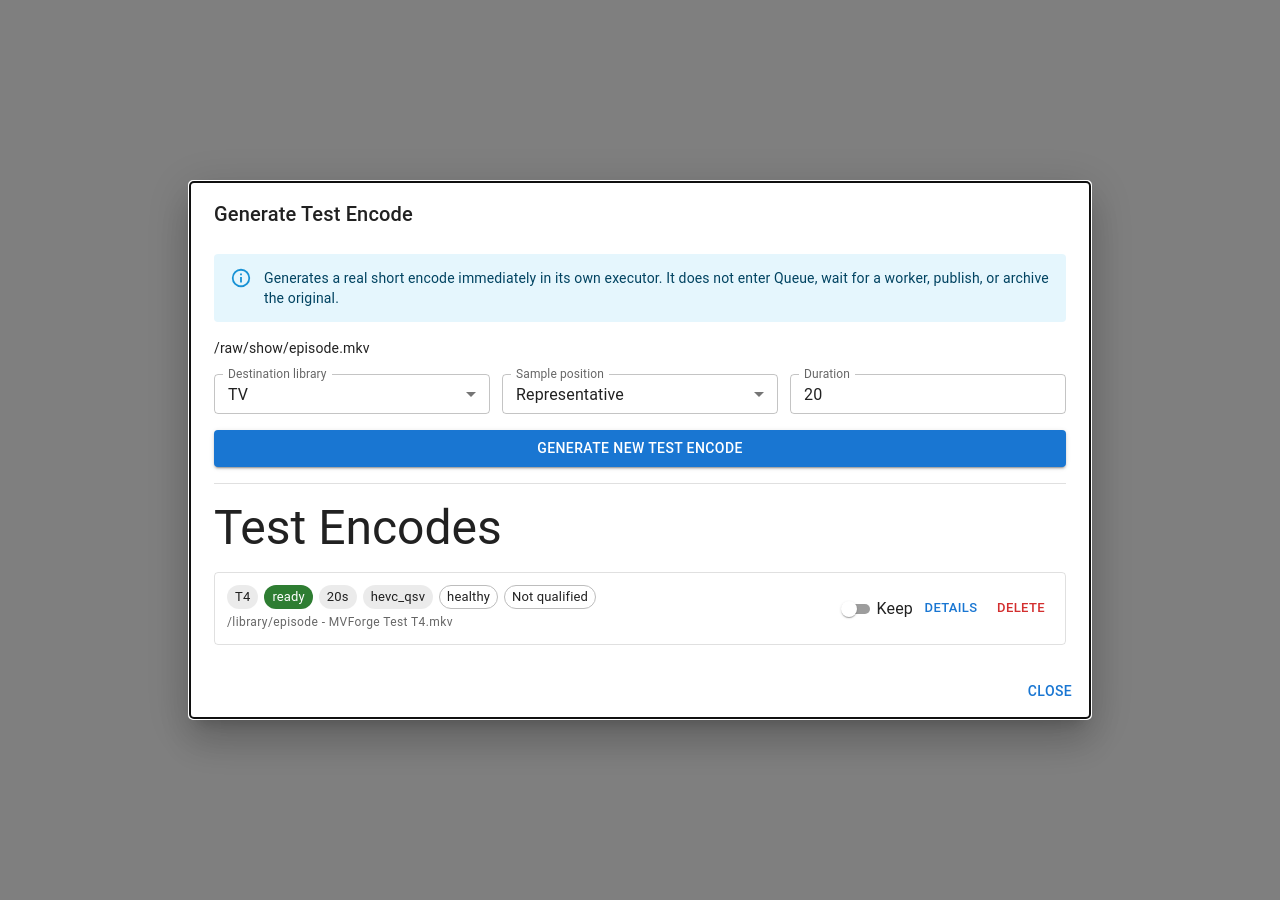
Test case: TestEncodeDialog › keeps requested and effective configurations in a dedicated section
Click the button "Details".
click(951, 609)  # box [919,593,983,624]
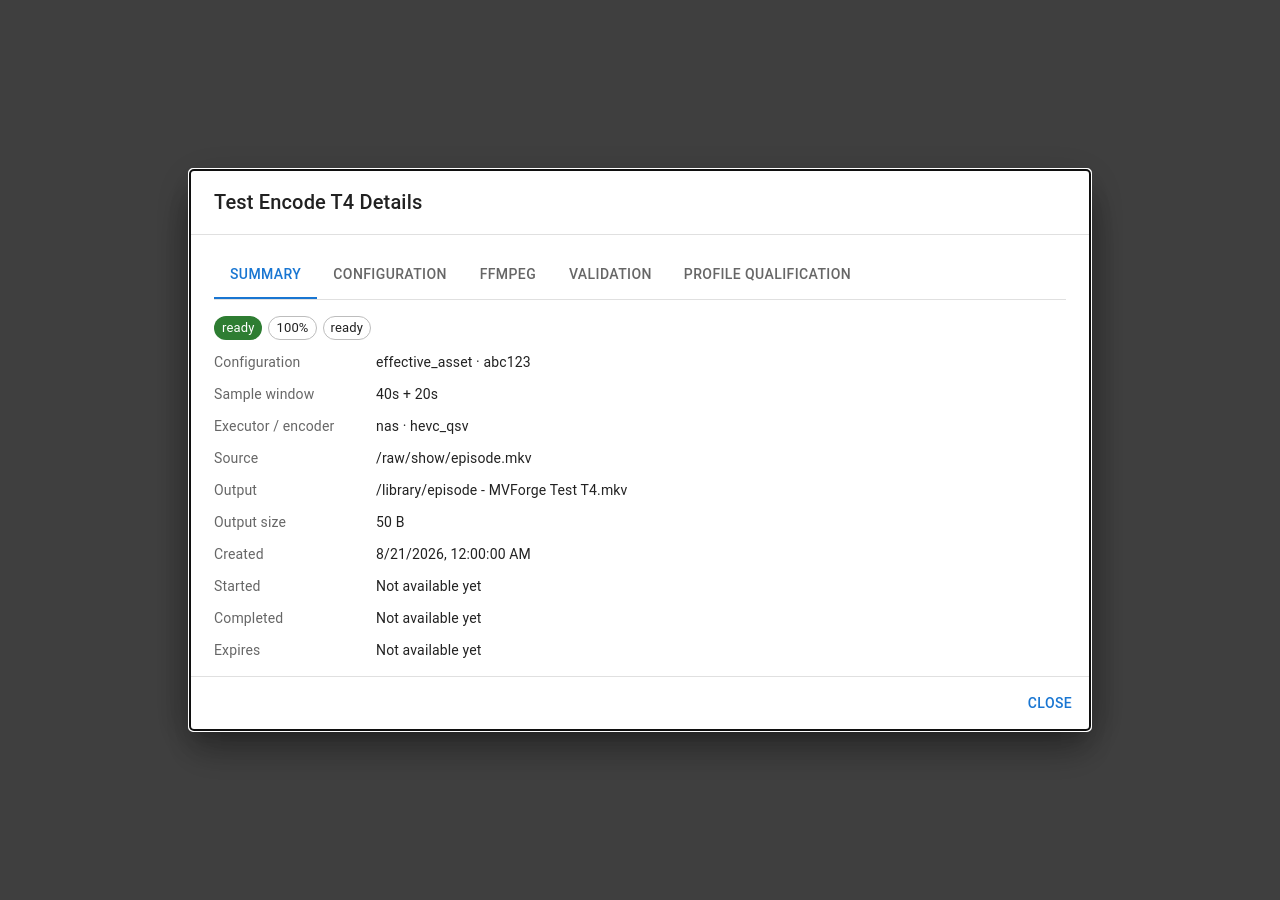
Click the tab "Configuration".
click(390, 275)  # box [317,251,463,299]
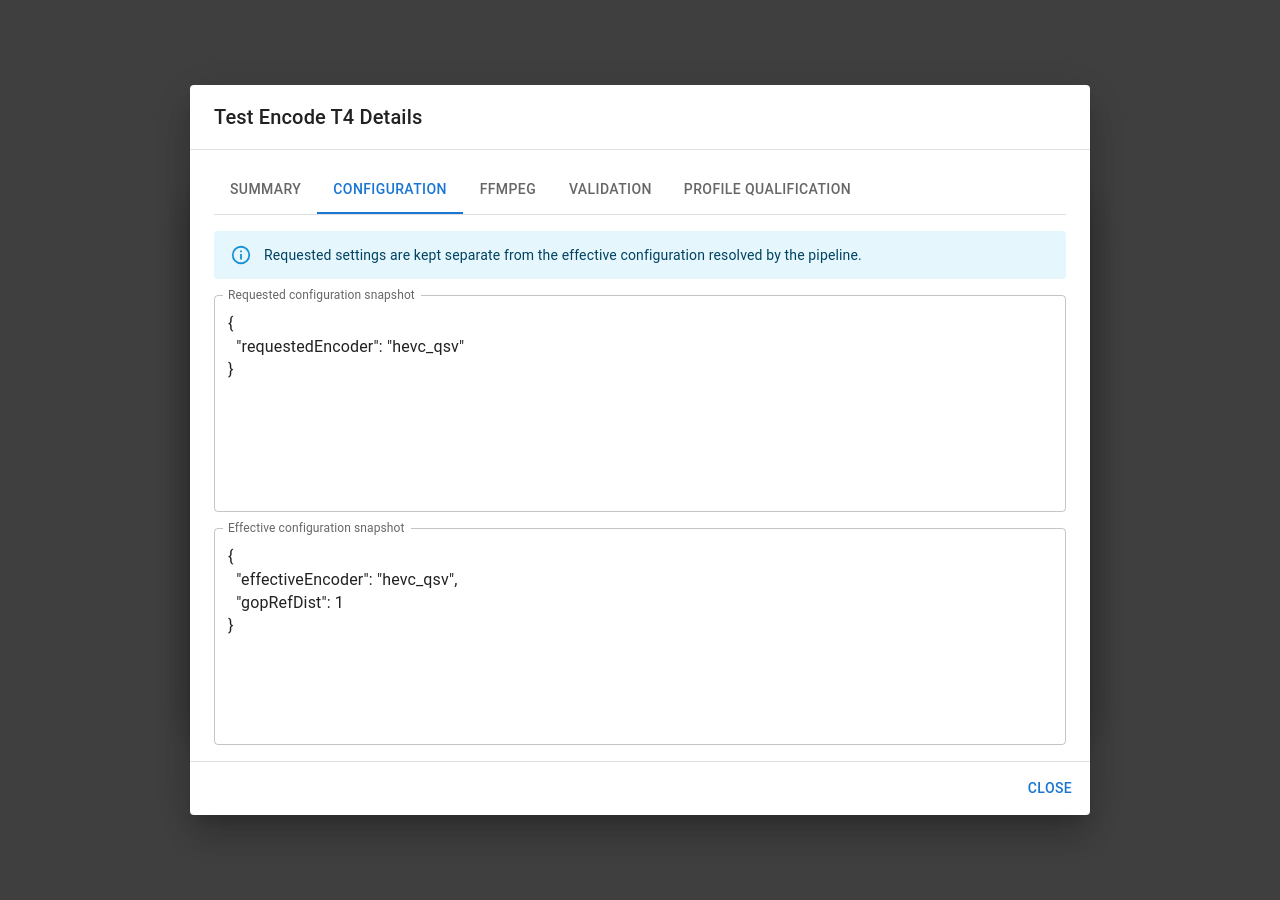
Check: the text box showing "\"requestedEncoder\": \"hevc_qsv\"" is shown, box [228,312,1052,496]
Check: the text box showing "\"gopRefDist\": 1" is shown, box [228,545,1052,729]
